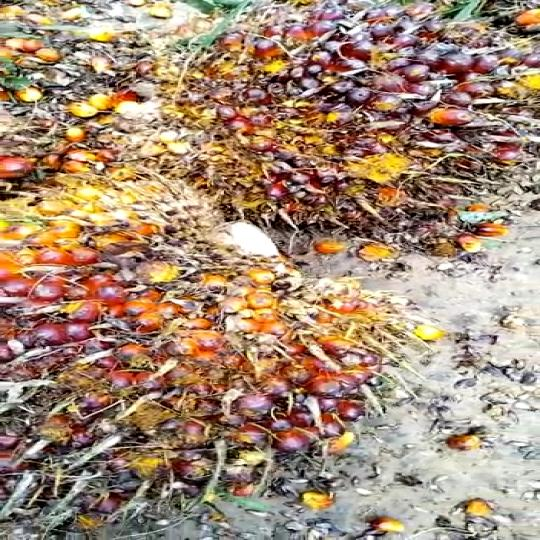masak: (0, 166, 431, 540), (142, 0, 540, 246)
